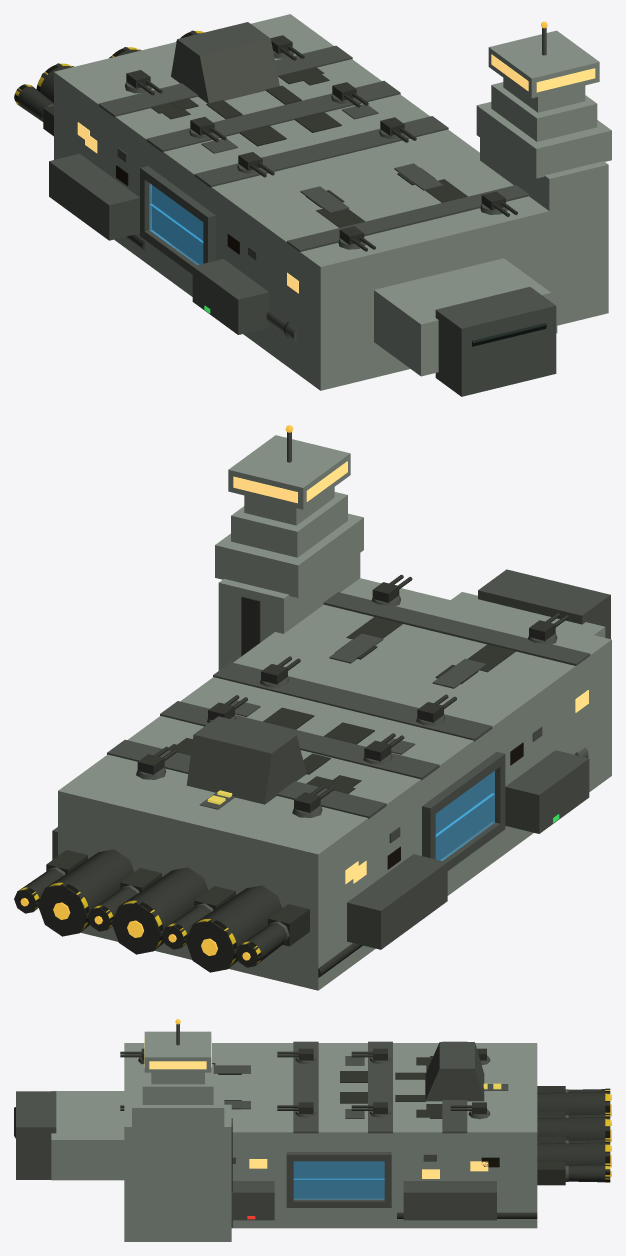
The model's file is capital-l(2).glb.
3 views of the same model, one above another, from view 1: azimuth 30°, elevation 25°; view 2: azimuth 150°, elevation 25°; view 3: azimuth 270°, elevation 25° (orthographic). The views are drawn at different scales.
Visible parts, largest first — view 1: hullMain, hullNoseTip, outriggerPylon, hullNose, aftTower, controlTerrace0, observationGallery, sidePod0L, sidePod2L, hullPanelLine0, hullPanelLine1, controlTerrace1 (+19 smaller); view 2: hullMain, engineHousing (×7), aftTower, controlTerrace0, outriggerPylon, sidePod0L, observationGallery, hullNoseTip, hullPanelLine0, sidePod3L, accentStripe, controlTerrace1 (+16 smaller); view 3: hullMain, outriggerPylon, hullNose, engineHousing (×4), dockingChamberStarboard, hullNoseTip, aftTower, controlTerrace0, sidePod2R, observationGallery, bayForceFieldStarboardLower, hullPanelLine0 (+17 smaller).
Boxes of the visible parts, left/top/right/bottom form: hullMain: left=54, top=14, right=557, bottom=390; hullNoseTip: left=435, top=287, right=556, bottom=396; outriggerPylon: left=480, top=138, right=608, bottom=325; hullNose: left=374, top=258, right=551, bottom=376; aftTower: left=171, top=22, right=279, bottom=103; controlTerrace0: left=476, top=102, right=611, bottom=178; observationGallery: left=488, top=30, right=599, bottom=98; sidePod0L: left=192, top=259, right=269, bottom=334; sidePod2L: left=63, top=164, right=139, bottom=240; hullPanelLine0: left=194, top=116, right=448, bottom=187; hullPanelLine1: left=146, top=80, right=400, bottom=152; controlTerrace1: left=491, top=82, right=597, bottom=141; hullMain: left=58, top=578, right=611, bottom=990; engineHousing (×7): left=14, top=849, right=286, bottom=972; aftTower: left=186, top=716, right=306, bottom=804; controlTerrace0: left=215, top=513, right=363, bottom=597; outriggerPylon: left=218, top=553, right=360, bottom=670; sidePod0L: left=505, top=750, right=589, bottom=833; observationGallery: left=228, top=435, right=350, bottom=509; hullNoseTip: left=478, top=569, right=610, bottom=639; hullPanelLine0: left=213, top=662, right=492, bottom=741; sidePod3L: left=347, top=866, right=430, bottom=949; accentStripe: left=323, top=592, right=590, bottom=665; controlTerrace1: left=231, top=492, right=347, bottom=557; hullMain: left=124, top=1043, right=537, bottom=1228; outriggerPylon: left=124, top=1104, right=231, bottom=1241; hullNose: left=51, top=1091, right=124, bottom=1180; engineHousing (×4): left=537, top=1091, right=610, bottom=1182; dockingChamberStarboard: left=293, top=1161, right=384, bottom=1198; hullNoseTip: left=16, top=1091, right=56, bottom=1179; aftTower: left=425, top=1042, right=484, bottom=1101; controlTerrace0: left=132, top=1079, right=224, bottom=1130; sidePod2R: left=403, top=1181, right=474, bottom=1220; observationGallery: left=144, top=1031, right=211, bottom=1072; bayForceFieldStarboardLower: left=294, top=1179, right=384, bottom=1199; hullPanelLine0: left=293, top=1041, right=318, bottom=1133.
Bounding box in the file's own units: 5.82 × 5.17 × 11.88.
